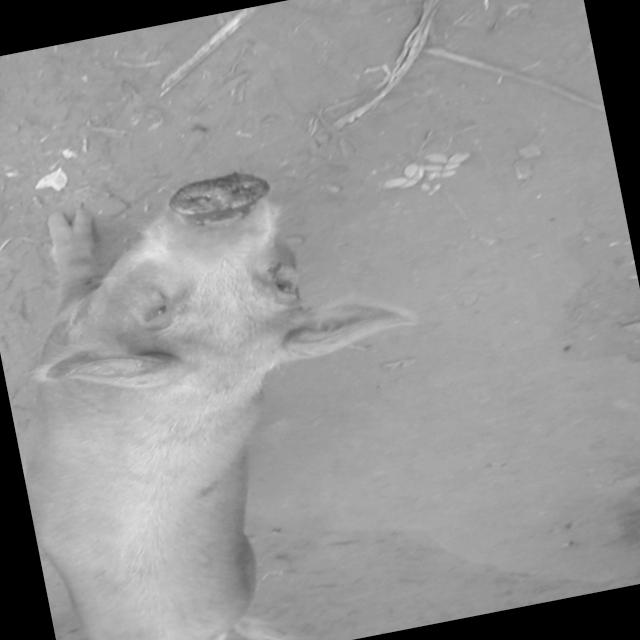pig: (19, 170, 417, 640)
